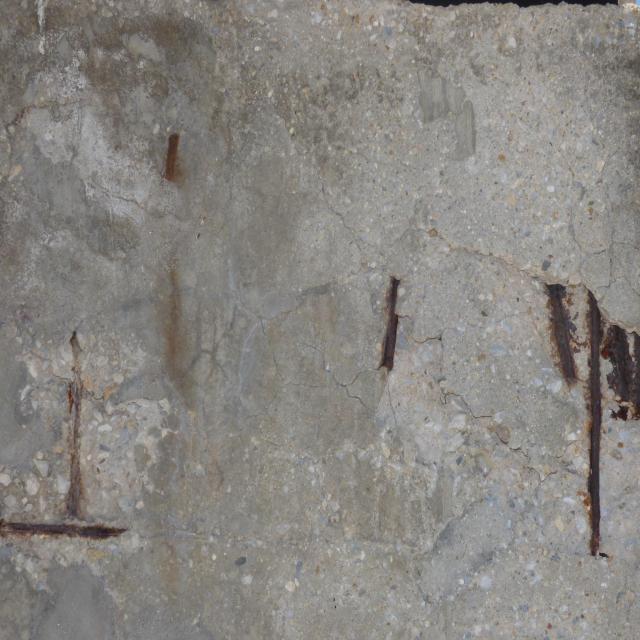corrosion: (524, 256, 640, 568), (0, 318, 132, 558), (151, 115, 202, 404), (373, 264, 411, 394)
